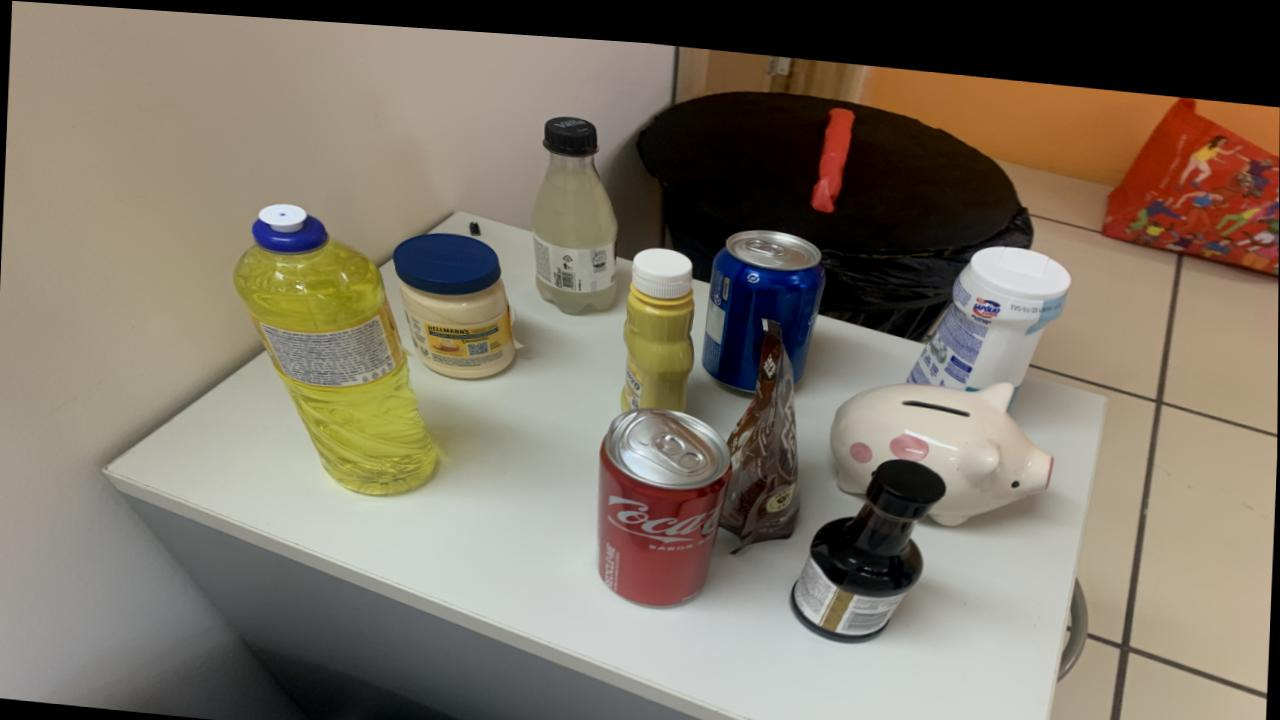Cleaner-Cleanup_Items: (910, 232, 1072, 378)
Coffee-Pantry_Items: (721, 309, 800, 543)
Coke-Drinks: (598, 398, 731, 598)
Detergent-Cleanup_Items: (234, 199, 438, 490)
English_Sauce-Pantry_Items: (793, 446, 946, 631)
Mayonnaise-Pantry_Items: (393, 226, 517, 372)
Mustard-Pantry_Items: (623, 239, 695, 402)
Pig_Safe-Miscellaneous: (832, 368, 1054, 513)
Soda-Drinks: (532, 109, 618, 306)
Tonic-Drinks: (702, 218, 826, 381)
